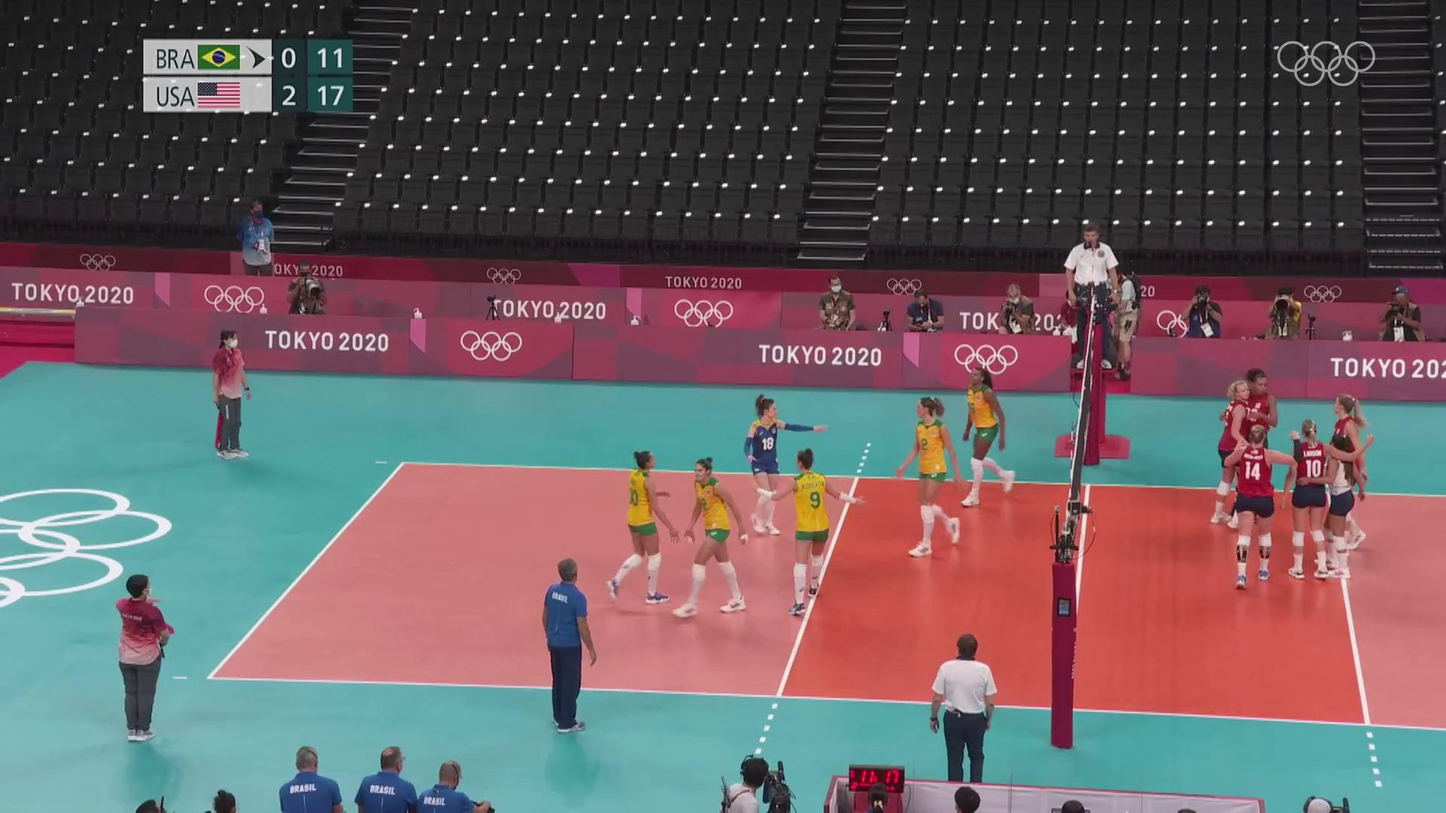player: (759, 448, 860, 615), (679, 457, 749, 619), (745, 396, 823, 538), (900, 395, 968, 557), (1226, 424, 1291, 592), (609, 449, 678, 603), (1288, 419, 1346, 578), (1319, 396, 1374, 549), (959, 368, 1016, 507), (1311, 433, 1357, 580), (1234, 370, 1278, 515), (1213, 380, 1254, 529)
refree: (113, 575, 179, 748), (930, 634, 1000, 779), (1067, 223, 1121, 368), (212, 329, 253, 461)
